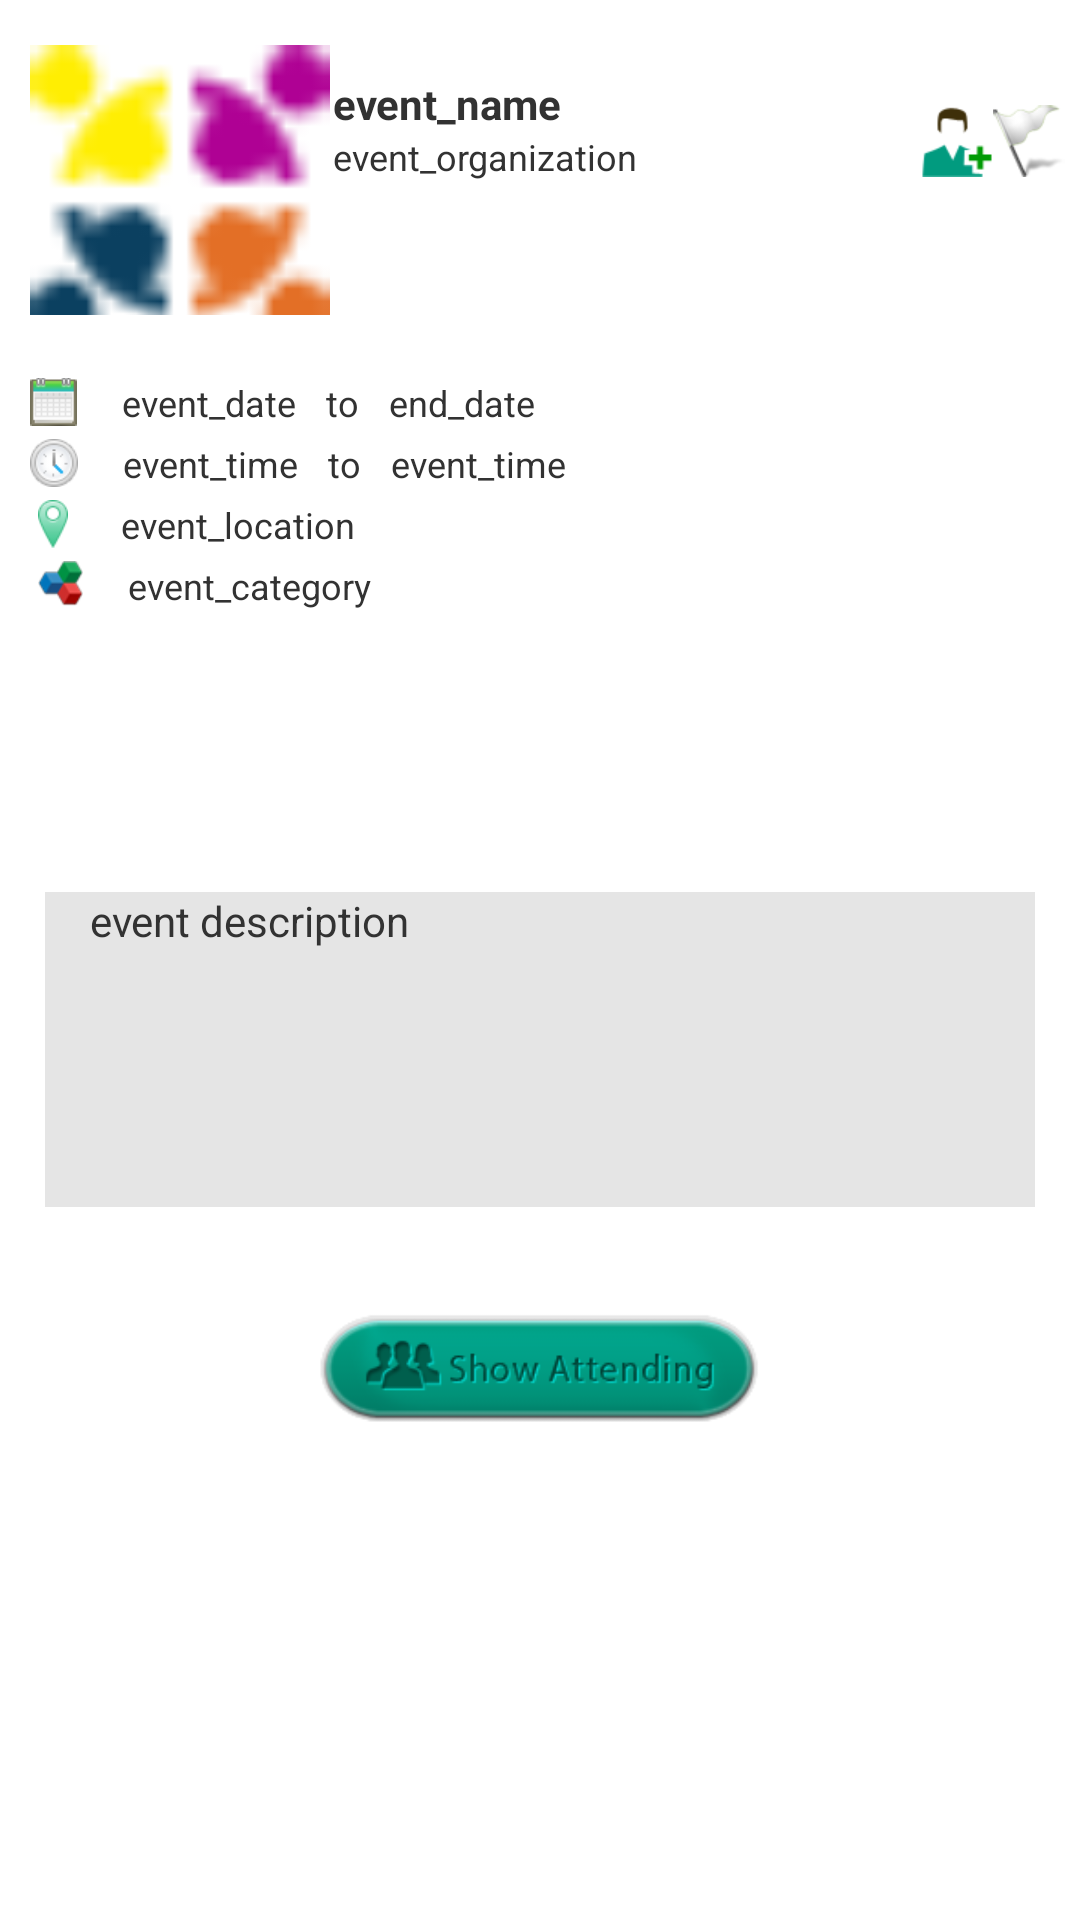

Icon click points for this 1080 x 1920 phone screenshot, format (x,y):
calendarday: (53,402)
categorydetails: (60,583)
clocktime: (54,463)
joinme: (957,142)
locationgreen: (53,524)
